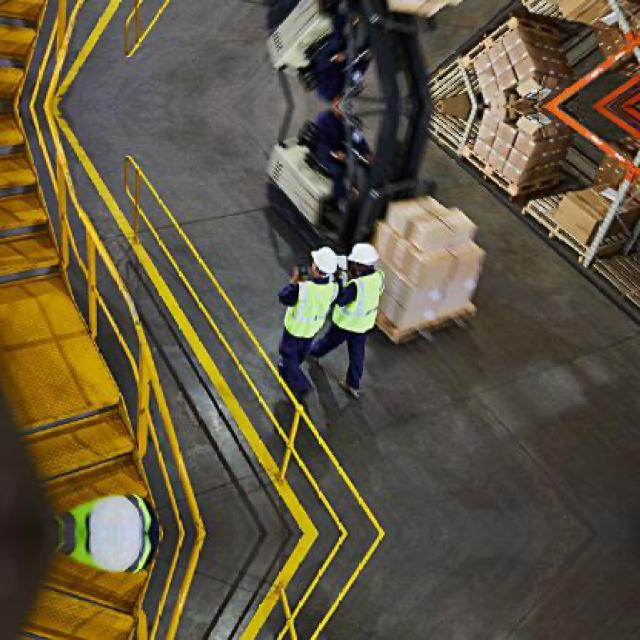con casco: (267, 240, 380, 320)
